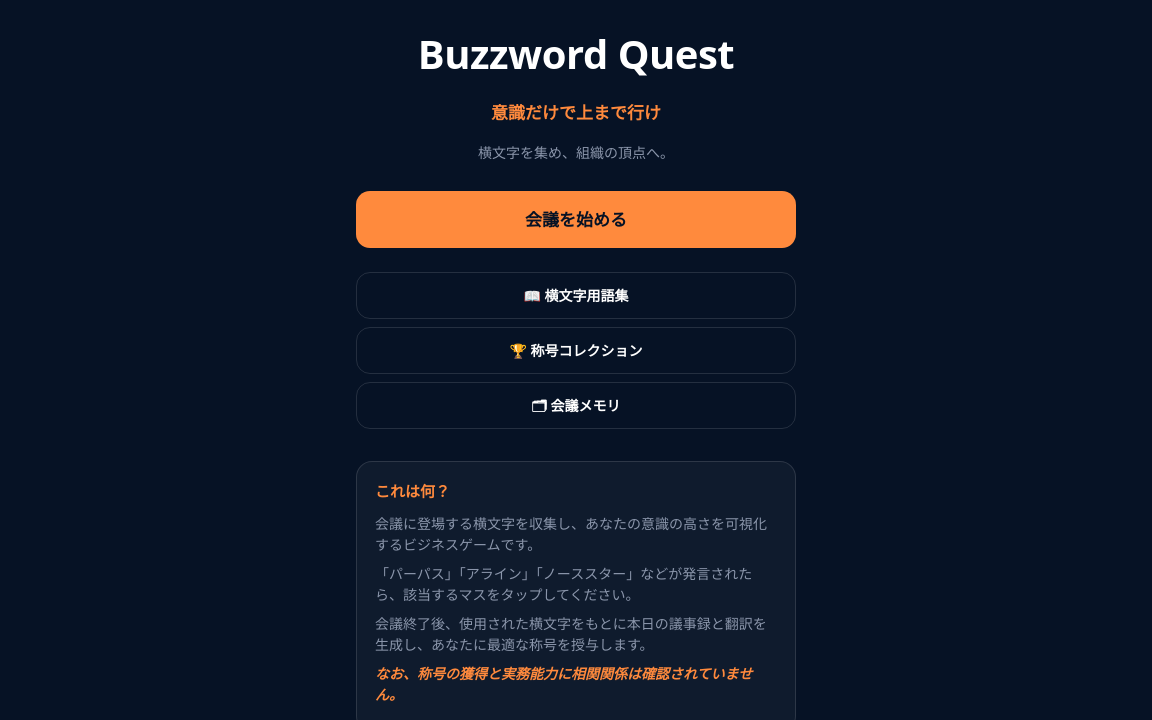
Scenario: App - title acquisition flow › shows the acquisition modal on first unlock, before the Result screen
Click the button "会議を始める" at coordinates (576, 219), box [356, 190, 796, 248]
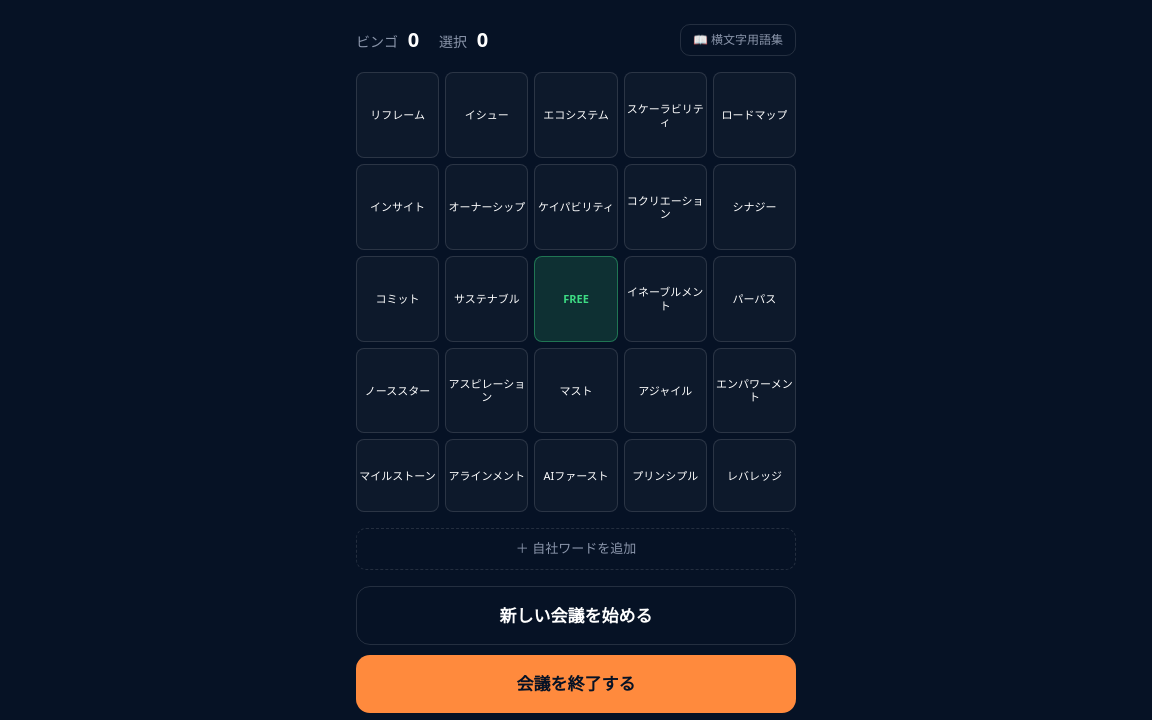
Click the button "リフレーム" at coordinates (398, 115), box [356, 72, 439, 158]
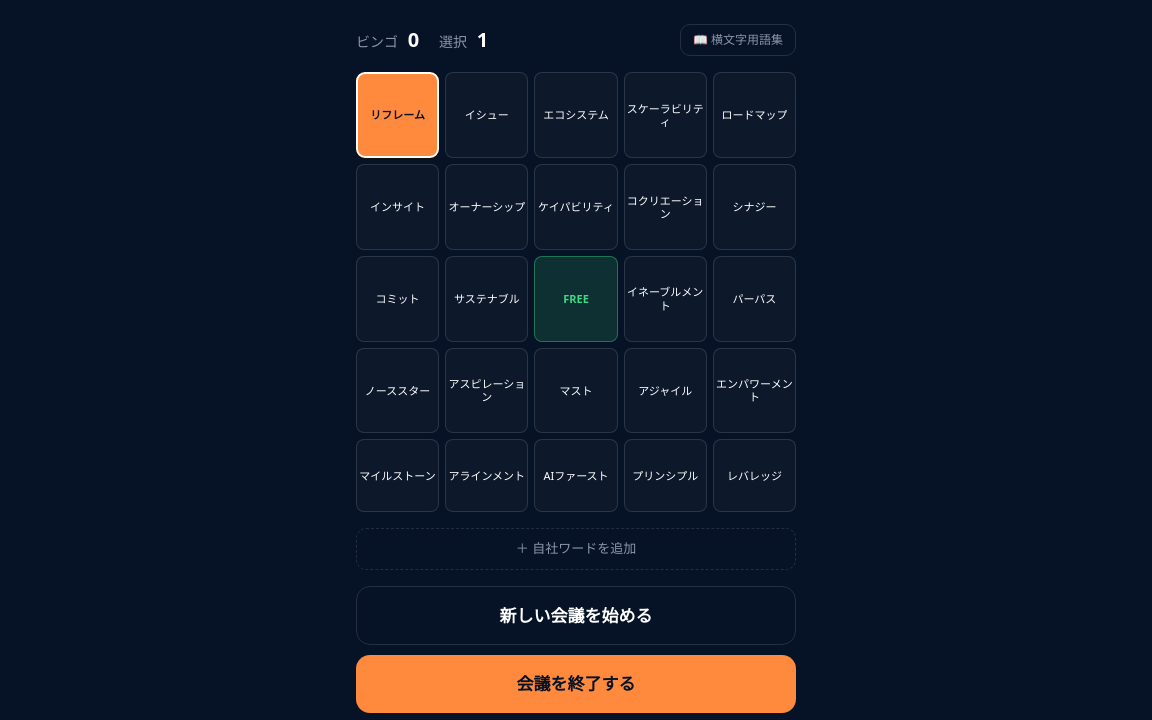
Click the button "会議を終了する" at coordinates (576, 684), box [356, 655, 796, 712]
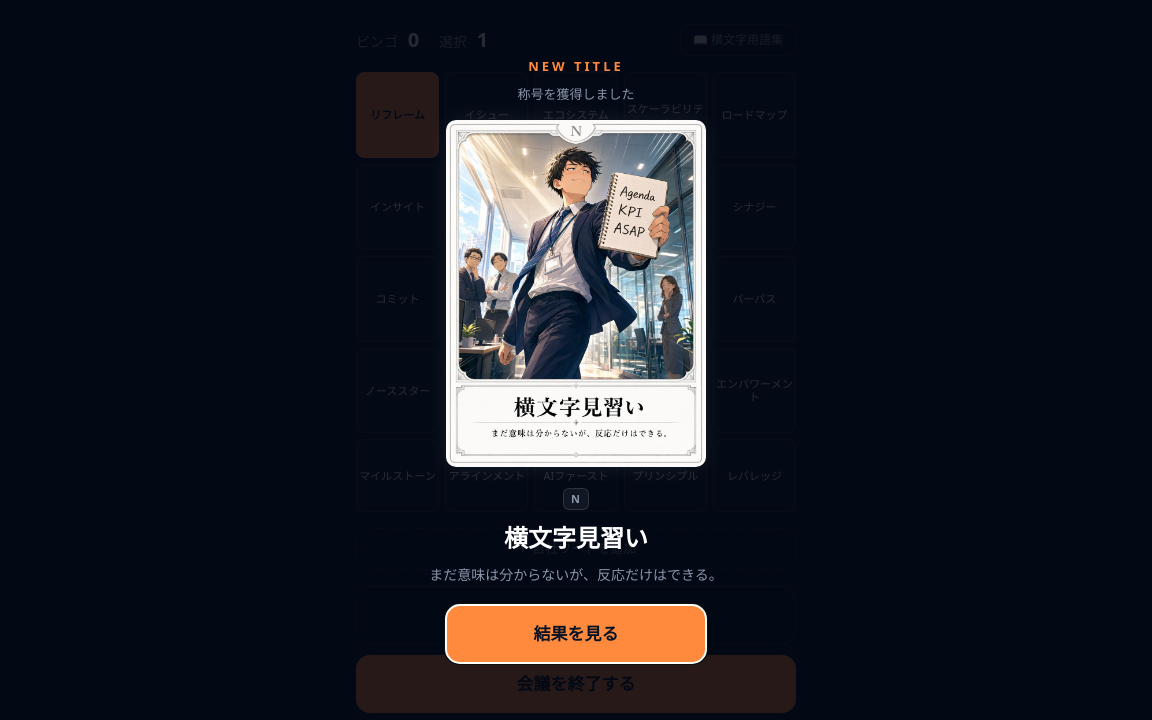
Now the text "NEW TITLE" is shown, box [528, 57, 624, 77]
Now the text "称号を獲得しました" is shown, box [518, 85, 634, 104]
